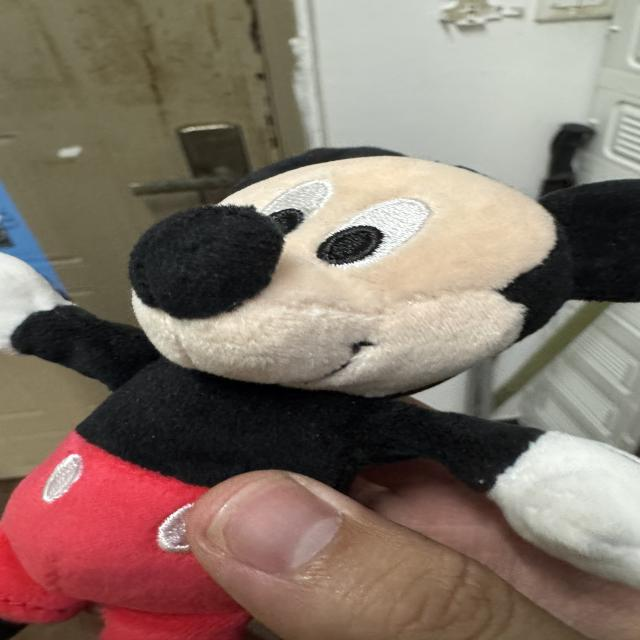mickey: (0, 149, 639, 639)
